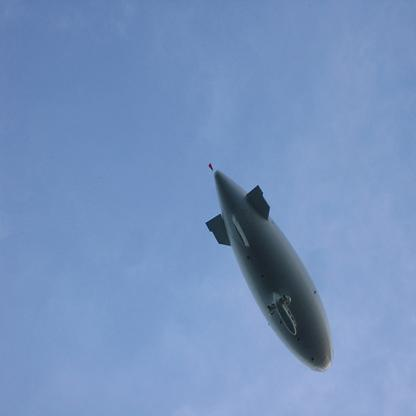Airship: (203, 160, 343, 374)
